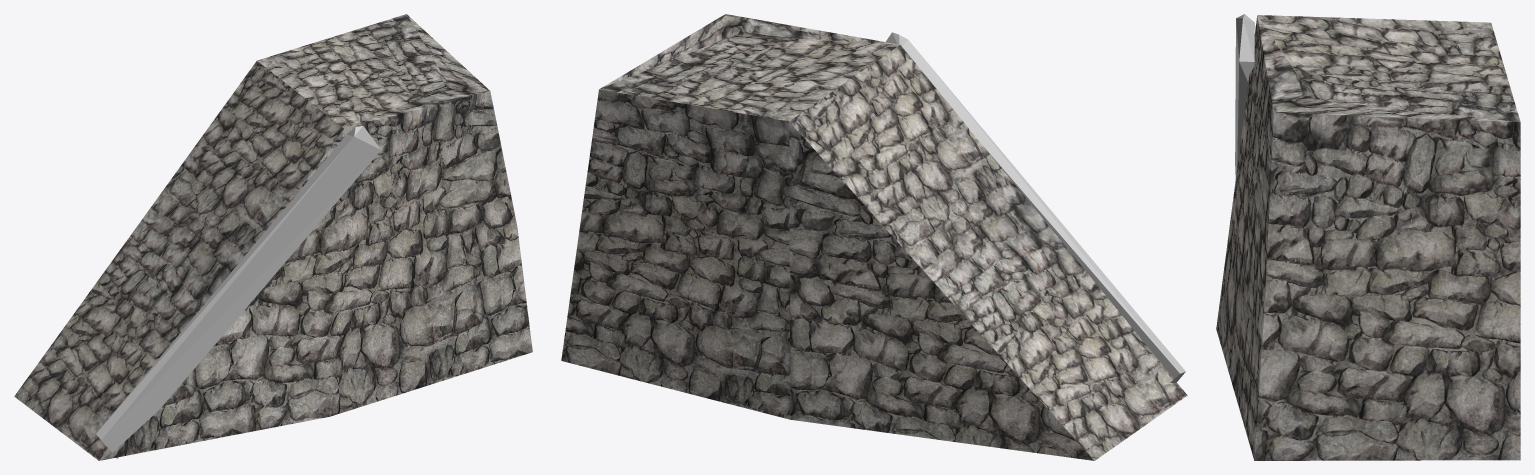
File: StoneRamp_1_LOD4.fbx
3 views of the same model, side by side, from view 1: azimuth 30°, elevation 25°; view 2: azimuth 150°, elevation 25°; view 3: azimuth 270°, elevation 25° (orthographic). The views are drawn at different scales.
Visible parts, largest first — view 1: Stone, Wood; view 2: Stone, Wood; view 3: Stone, Wood.
Part boxes in pixels (<box>): Stone: <box>14,14,532,460</box>; Wood: <box>96,126,380,458</box>; Stone: <box>561,14,1187,460</box>; Wood: <box>886,32,1185,383</box>; Stone: <box>1216,15,1520,460</box>; Wood: <box>1235,14,1254,178</box>.
Bounding box in the file's own units: 984 × 459 × 561.
